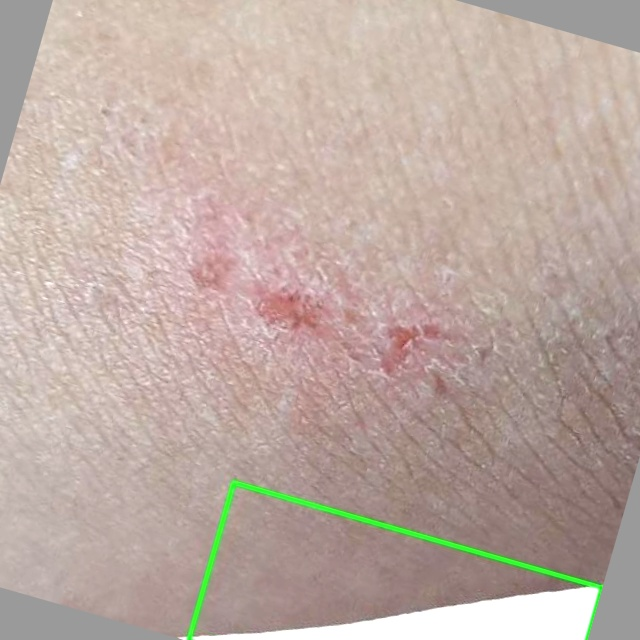Scabies: (187, 482, 601, 639)
